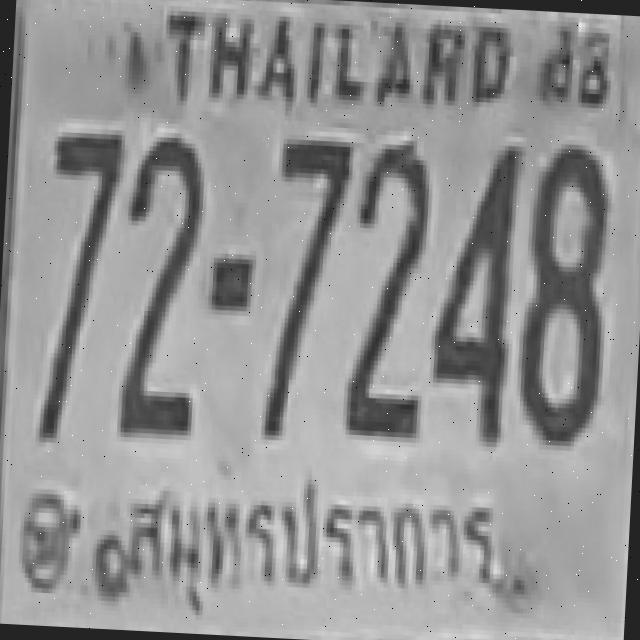2: (346, 138, 434, 410), (118, 131, 206, 398), (115, 170, 202, 434), (342, 185, 429, 434), (348, 140, 432, 388)
4: (426, 138, 520, 438)
7: (256, 134, 353, 438), (264, 134, 352, 401), (42, 130, 122, 378), (272, 134, 352, 330), (273, 136, 352, 310), (46, 130, 122, 306)
8: (513, 142, 609, 442)
SamutPrakan: (116, 466, 512, 612)
